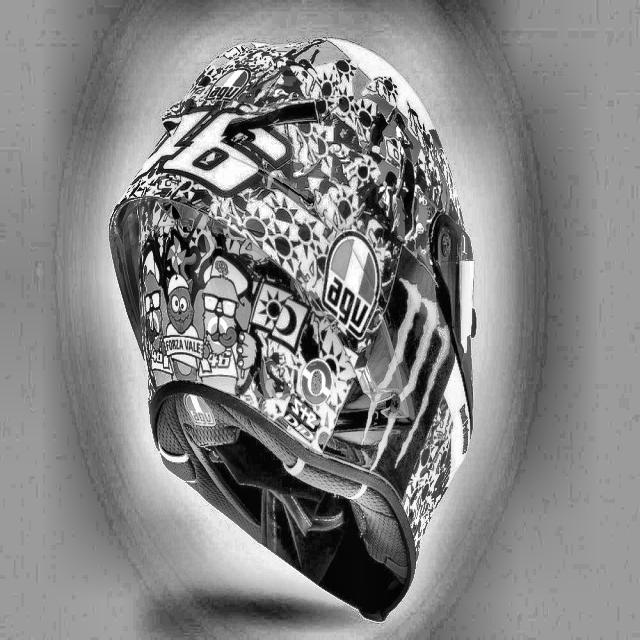Helmet: (107, 33, 490, 624)
